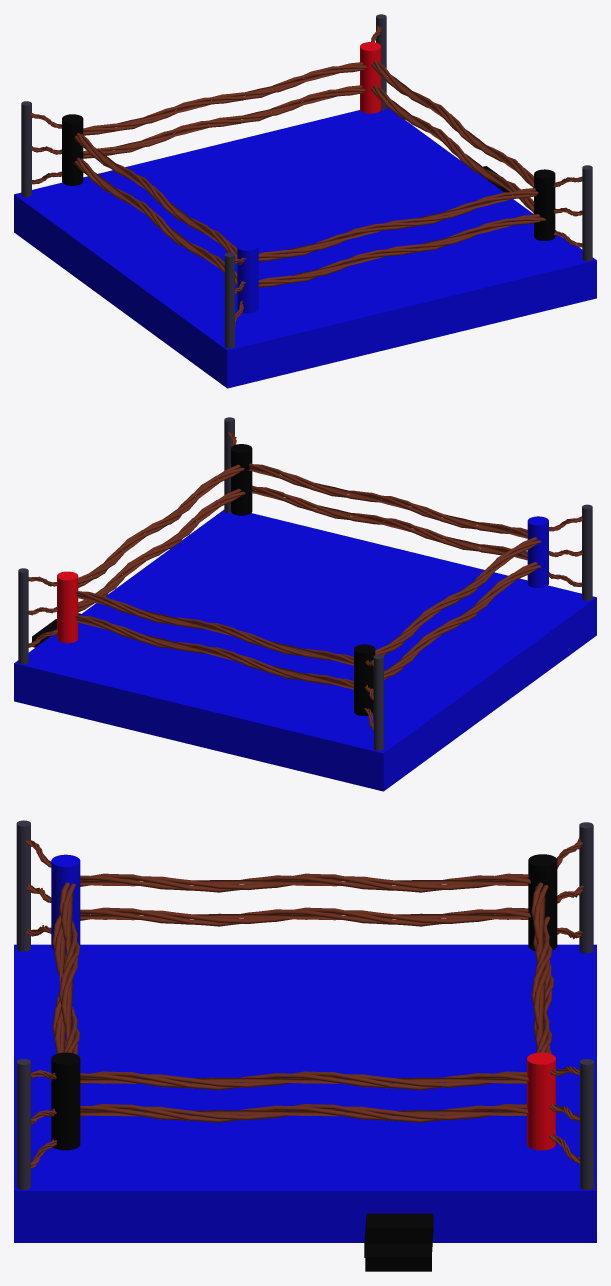
Rendered from RINGUnity.fbx.
The picture shows the model from 3 angles, top to bottom: view 1: azimuth 30°, elevation 25°; view 2: azimuth 150°, elevation 25°; view 3: azimuth 270°, elevation 25°; orthographic projection. The views are drawn at different scales.
Parts seen in each view (by area): view 1: ОкружностьБезье.008; view 2: ОкружностьБезье.008; view 3: ОкружностьБезье.008.
Part boxes in pixels (x1,y1,x2,y2): ОкружностьБезье.008: [14, 14, 596, 388]; ОкружностьБезье.008: [14, 417, 596, 791]; ОкружностьБезье.008: [14, 820, 596, 1271].
Bounding box in the file's own units: 680 × 205 × 610.
